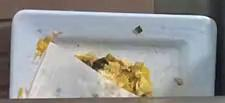omelette: (75, 53, 151, 95)
